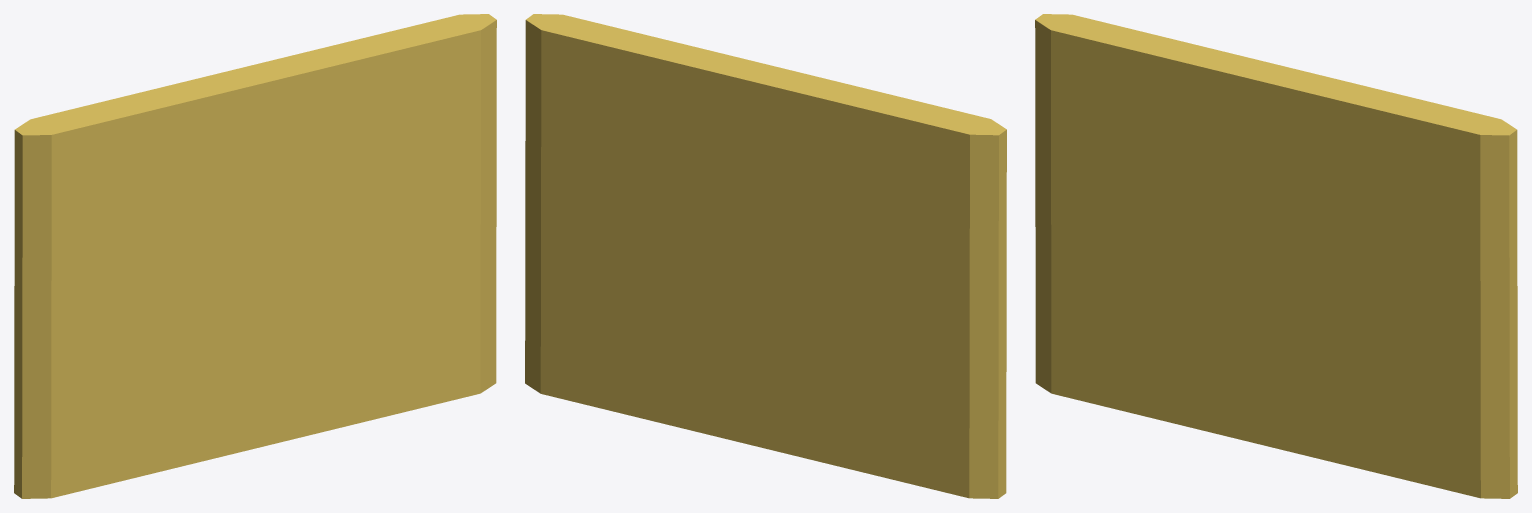
File: platform05.fbx
The picture shows the model from 3 angles, left to right: view 1: azimuth 30°, elevation 25°; view 2: azimuth 150°, elevation 25°; view 3: azimuth 330°, elevation 25°; orthographic projection.
Visible parts, largest first — view 1: platform05; view 2: platform05; view 3: platform05.
Boxes of the visible parts, <box> form: platform05: <box>14,14,496,498</box>; platform05: <box>525,14,1006,498</box>; platform05: <box>1035,14,1517,498</box>.
Bounding box in the file's own units: 131 × 95.79 × 10.45.
